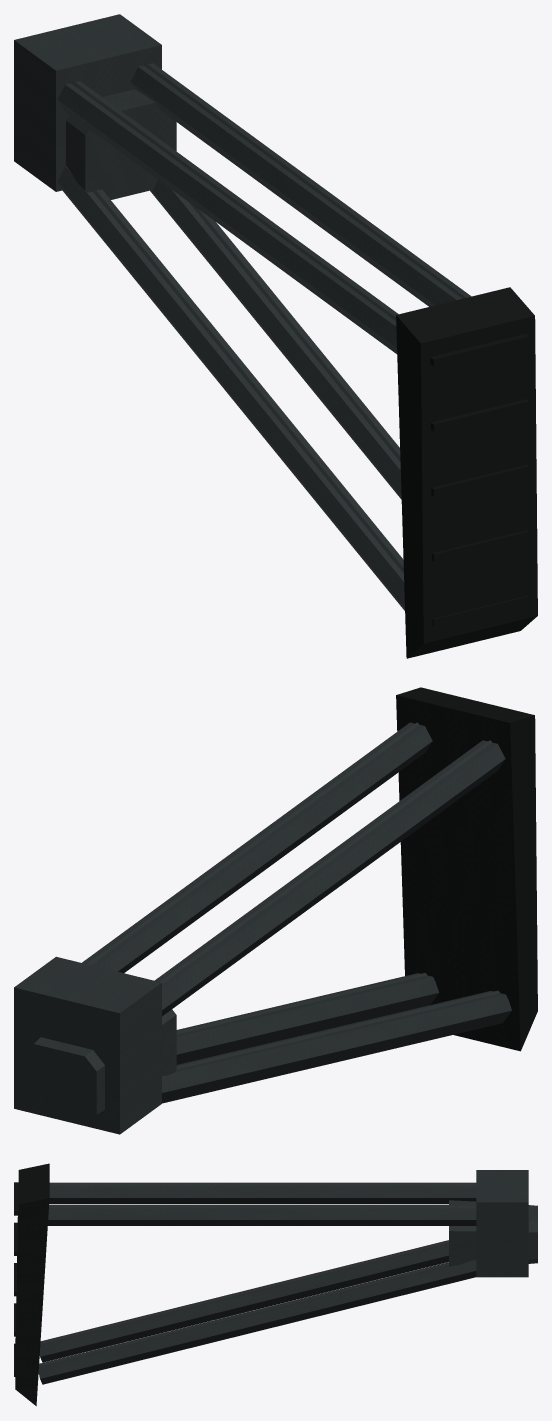
File: val_stock.glb
3 renders of one model, top to bottom at view 1: azimuth 30°, elevation 25°; view 2: azimuth 150°, elevation 25°; view 3: azimuth 270°, elevation 25°, orthographic. The views are drawn at different scales.
Parts seen in each view (by area): view 1: stock__val_stock_LOD0_RAID_Secondary_Original_steel, stock__val_stock_LOD0_RAID_Secondary_Original_rubber, stock__val_stock_LOD1_RAID_Secondary_Original_rubber, stock__val_stock_LOD1_RAID_Secondary_Original_steel; view 2: stock__val_stock_LOD0_RAID_Secondary_Original_steel, stock__val_stock_LOD0_RAID_Secondary_Original_rubber, stock__val_stock_LOD1_RAID_Secondary_Original_rubber, stock__val_stock_LOD1_RAID_Secondary_Original_steel; view 3: stock__val_stock_LOD0_RAID_Secondary_Original_steel, stock__val_stock_LOD0_RAID_Secondary_Original_rubber, stock__val_stock_LOD1_RAID_Secondary_Original_steel, stock__val_stock_LOD1_RAID_Secondary_Original_rubber.
Part boxes in pixels (x1=…): stock__val_stock_LOD0_RAID_Secondary_Original_steel: x1=14, y1=14, x2=471, y2=610; stock__val_stock_LOD0_RAID_Secondary_Original_rubber: x1=397, y1=289, x2=535, y2=656; stock__val_stock_LOD1_RAID_Secondary_Original_rubber: x1=396, y1=287, x2=537, y2=658; stock__val_stock_LOD1_RAID_Secondary_Original_steel: x1=71, y1=63, x2=465, y2=573; stock__val_stock_LOD0_RAID_Secondary_Original_steel: x1=14, y1=722, x2=511, y2=1134; stock__val_stock_LOD0_RAID_Secondary_Original_rubber: x1=398, y1=688, x2=535, y2=1047; stock__val_stock_LOD1_RAID_Secondary_Original_rubber: x1=396, y1=687, x2=537, y2=1051; stock__val_stock_LOD1_RAID_Secondary_Original_steel: x1=87, y1=722, x2=499, y2=1069; stock__val_stock_LOD0_RAID_Secondary_Original_steel: x1=38, y1=1170, x2=537, y2=1384; stock__val_stock_LOD0_RAID_Secondary_Original_rubber: x1=14, y1=1164, x2=48, y2=1403; stock__val_stock_LOD1_RAID_Secondary_Original_steel: x1=39, y1=1183, x2=476, y2=1366; stock__val_stock_LOD1_RAID_Secondary_Original_rubber: x1=15, y1=1163, x2=49, y2=1406.
Size of the model in its own units: 0.069 by 0.194 by 0.442.
2 materials, 2 textured.
